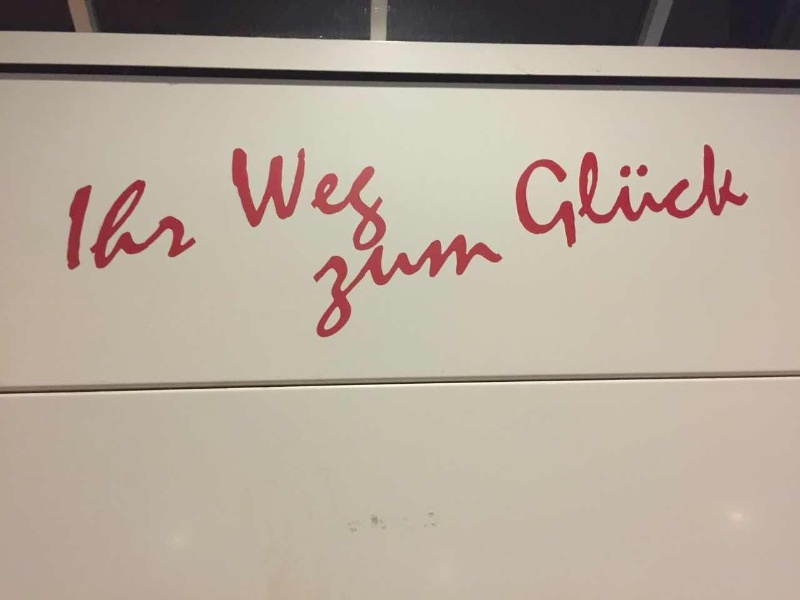text: (529, 131, 544, 266), (545, 131, 560, 266), (561, 131, 576, 266), (577, 131, 592, 266), (593, 131, 608, 266), (609, 131, 624, 266), (625, 131, 640, 266), (641, 131, 656, 266), (657, 131, 672, 266), (673, 131, 688, 266), (689, 131, 704, 266), (705, 131, 720, 266), (721, 131, 736, 266), (737, 131, 752, 266), (514, 131, 528, 266), (321, 234, 336, 344), (337, 234, 352, 344), (353, 234, 368, 344), (369, 234, 384, 344), (385, 234, 400, 344), (401, 234, 416, 344), (417, 234, 432, 344), (433, 234, 448, 344), (449, 234, 464, 344), (465, 234, 480, 344), (481, 234, 496, 344), (225, 148, 240, 257), (241, 148, 256, 257), (257, 148, 272, 257), (273, 148, 288, 257), (289, 148, 304, 257), (305, 148, 320, 257), (321, 148, 336, 257), (337, 148, 352, 257), (353, 148, 368, 257), (369, 148, 384, 257), (81, 176, 96, 272), (97, 176, 112, 272), (113, 176, 128, 272), (129, 176, 144, 272), (145, 176, 160, 272), (161, 176, 176, 272), (177, 176, 192, 272), (497, 234, 506, 344), (71, 176, 80, 272), (193, 176, 199, 272), (315, 234, 320, 344), (385, 148, 388, 257), (753, 131, 755, 266), (222, 148, 224, 257)
